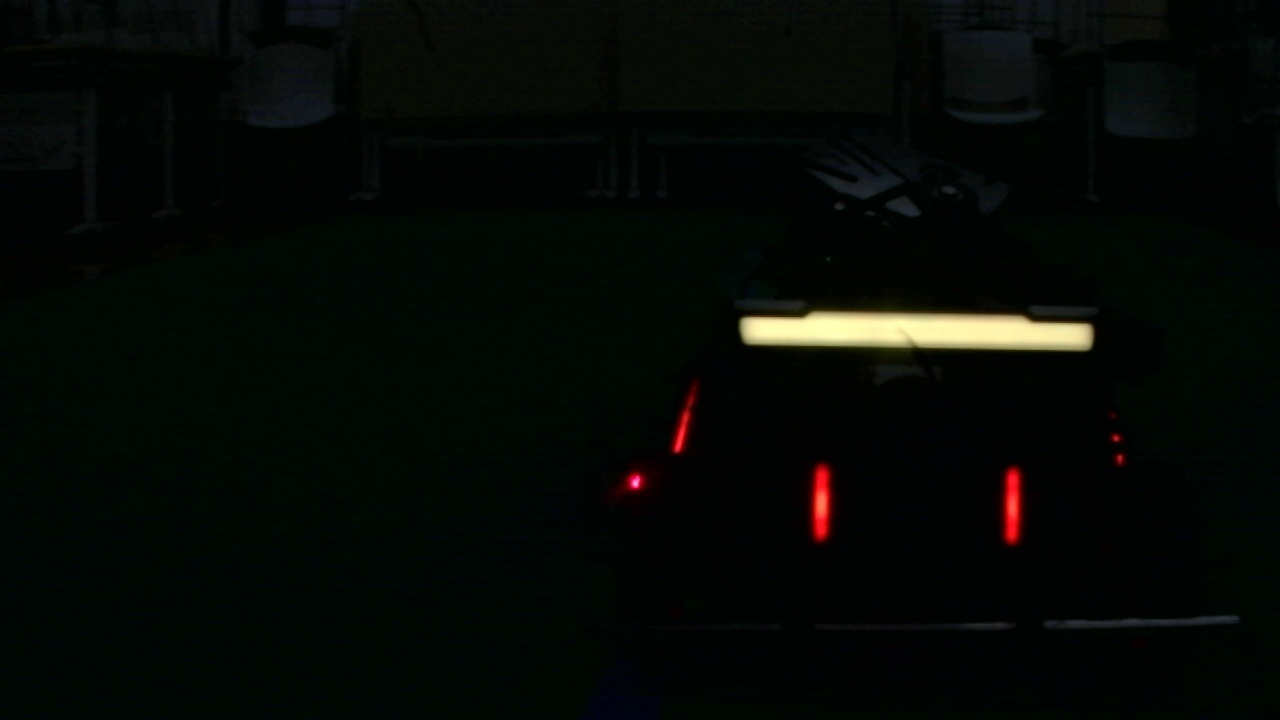lamp: (671, 382, 696, 460), (811, 464, 833, 548), (1002, 464, 1018, 547)
pair1: (814, 469, 1021, 546)
